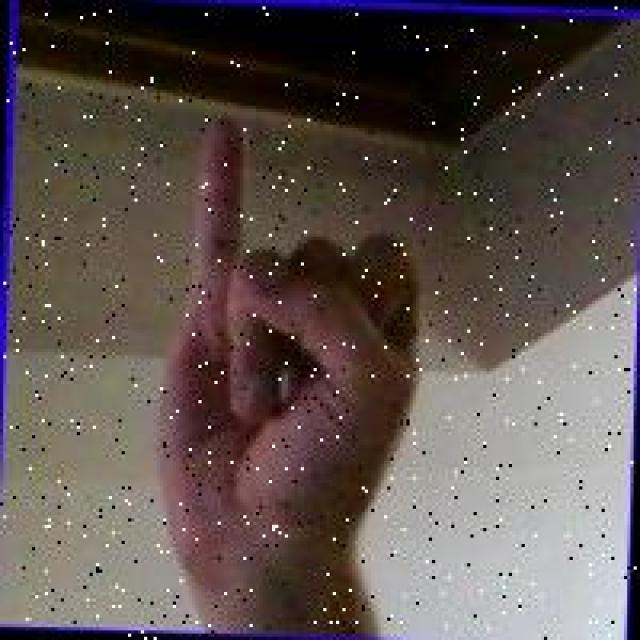I: (149, 104, 437, 606)
